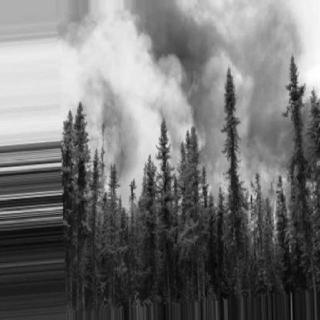Fire: (245, 160, 292, 243)
Smoke: (60, 0, 308, 150)
